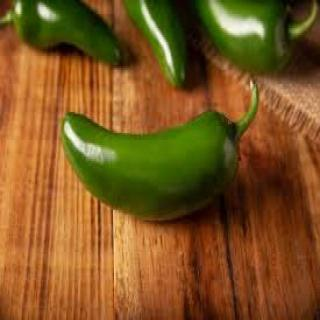Cabai Hijau: (63, 106, 281, 239), (189, 1, 319, 79), (12, 1, 132, 69)
